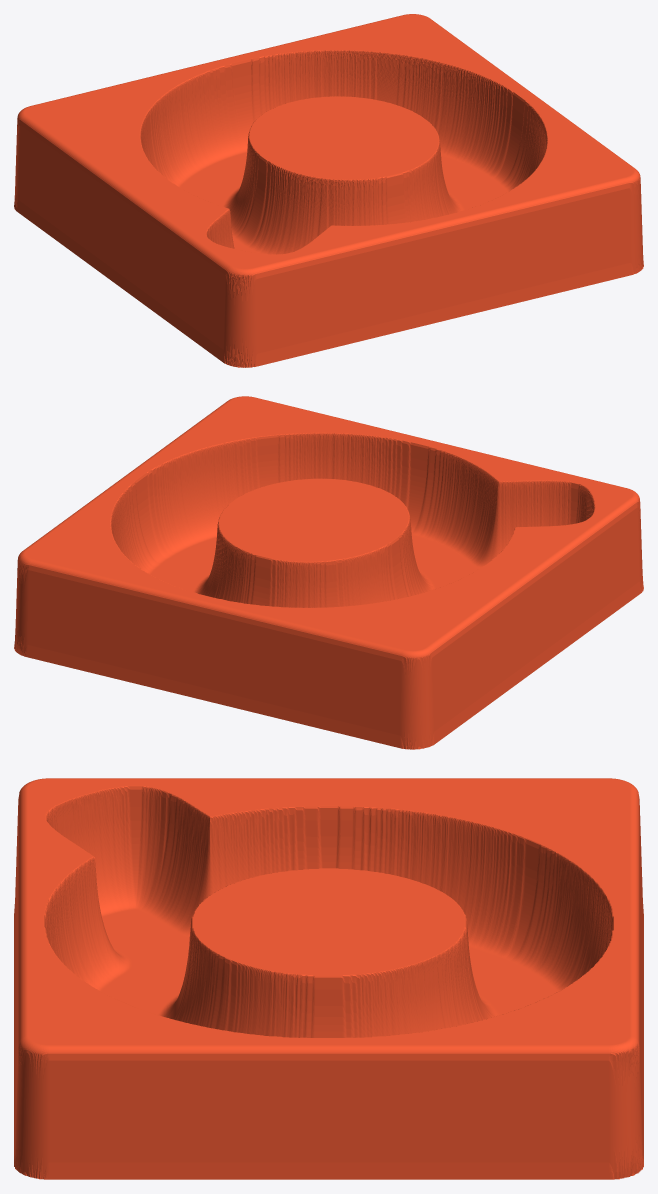
File: mold.glb
The picture shows the model from 3 angles, top to bottom: view 1: azimuth 30°, elevation 25°; view 2: azimuth 150°, elevation 25°; view 3: azimuth 270°, elevation 25°; orthographic projection. The views are drawn at different scales.
Parts seen in each view (by area): view 1: geometry_0; view 2: geometry_0; view 3: geometry_0.
Boxes of the visible parts, x1,y1,x2,y2 form: geometry_0: (14, 14, 643, 367); geometry_0: (14, 396, 643, 749); geometry_0: (14, 778, 643, 1179).
Size of the model in its own units: 0.1689 by 0.0365 by 0.1619.
